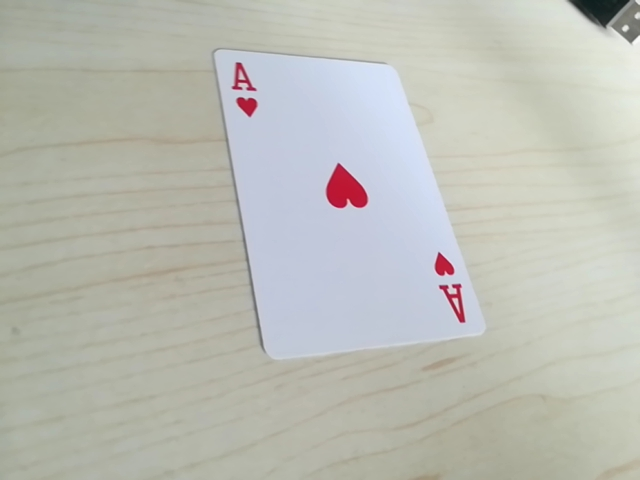hx a: (219, 57, 265, 127), (429, 247, 470, 321)
